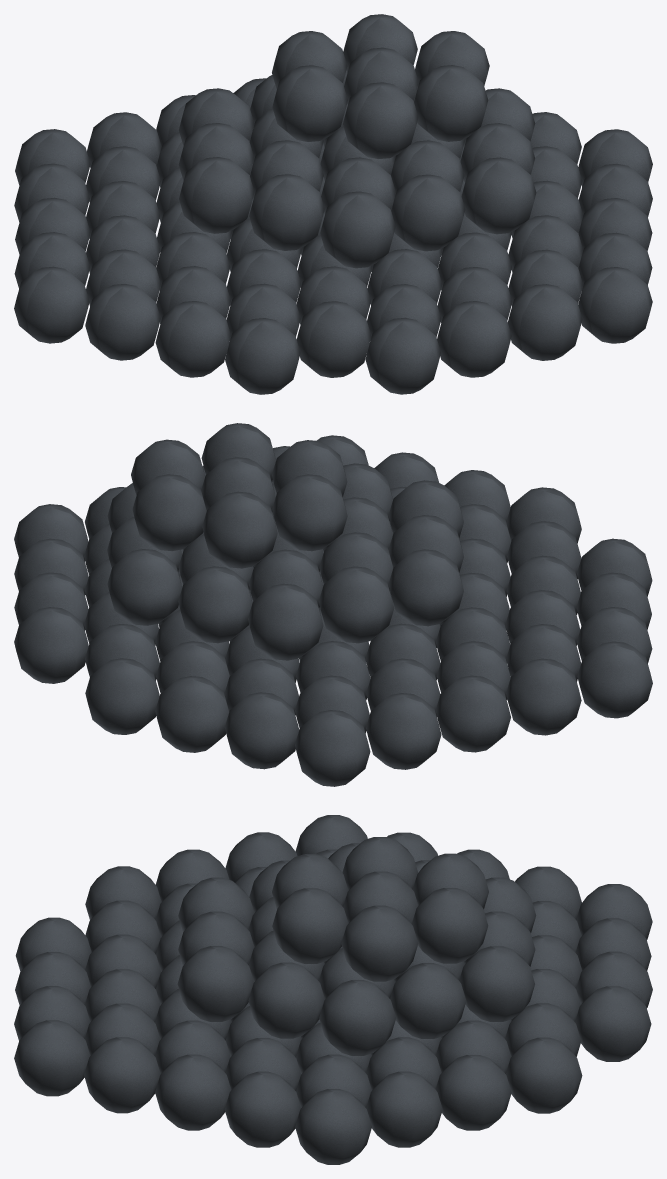
Rendered from ShotgunLeadBirdshot.glb.
3 views of the same model, one above another, from view 1: azimuth 30°, elevation 25°; view 2: azimuth 150°, elevation 25°; view 3: azimuth 270°, elevation 25° (orthographic).
Parts seen in each view (by area): view 1: ShotgunLeadBirdshot; view 2: ShotgunLeadBirdshot; view 3: ShotgunLeadBirdshot.
Boxes of the visible parts, x1,y1,x2,y2 form: ShotgunLeadBirdshot: [14, 14, 652, 394]; ShotgunLeadBirdshot: [14, 423, 652, 786]; ShotgunLeadBirdshot: [14, 815, 652, 1164].
Size of the model in its own units: 0.0319 by 0.00901 by 0.0282.
1 material, 1 textured.
